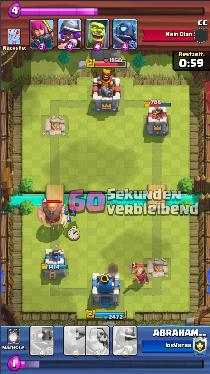enemy_giant: (36, 202, 68, 229)
enemy_knight: (130, 267, 149, 286)
